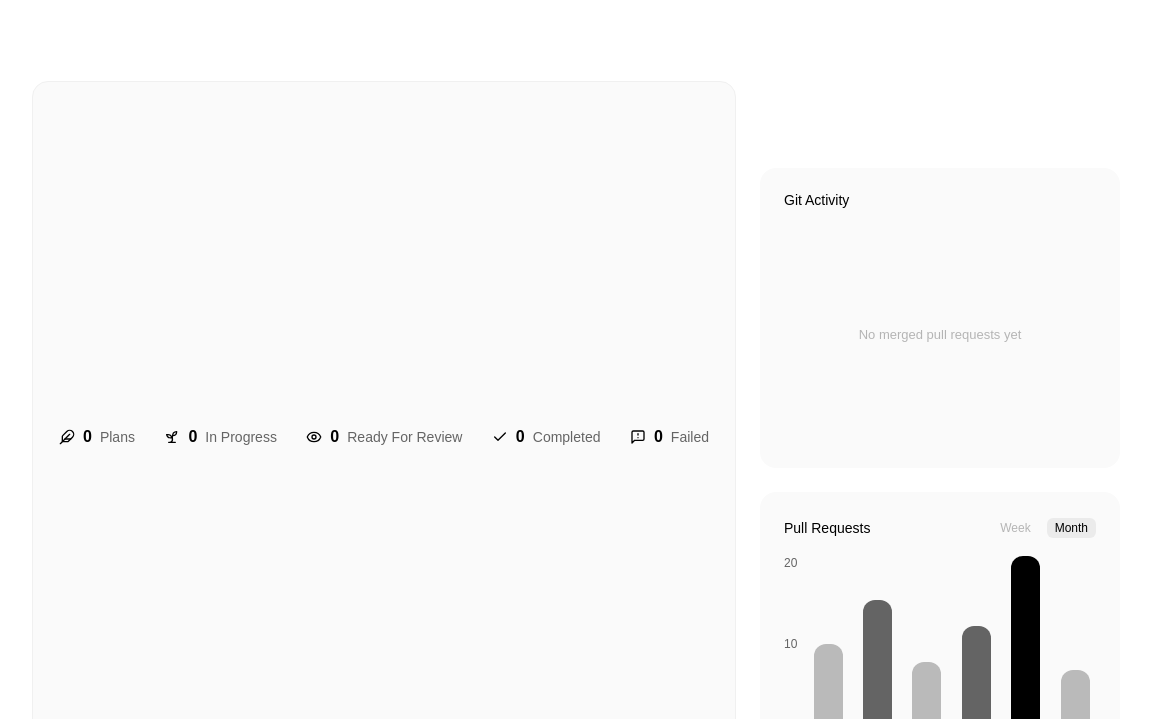
TendrilDashboard pull requests week/month toggle › renders weekly labels with formatted two-line date wrapping while remaining accessible
Click the button "Week": (1015, 528) [992,518,1039,538]
(page scrolled)
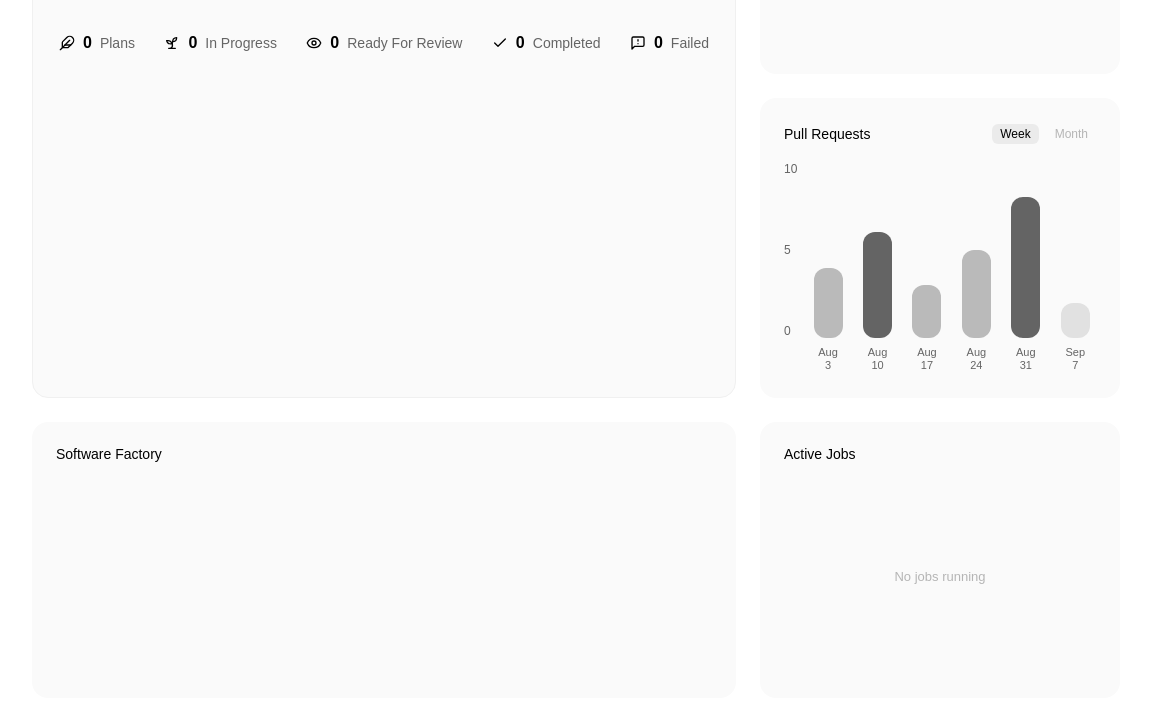
Result: the text "Aug 3" is shown at [818,346,838,371]
Result: the text "Aug 10" is shown at [868,346,887,371]
Result: the text "Sep 7" is shown at [1066,346,1085,371]
